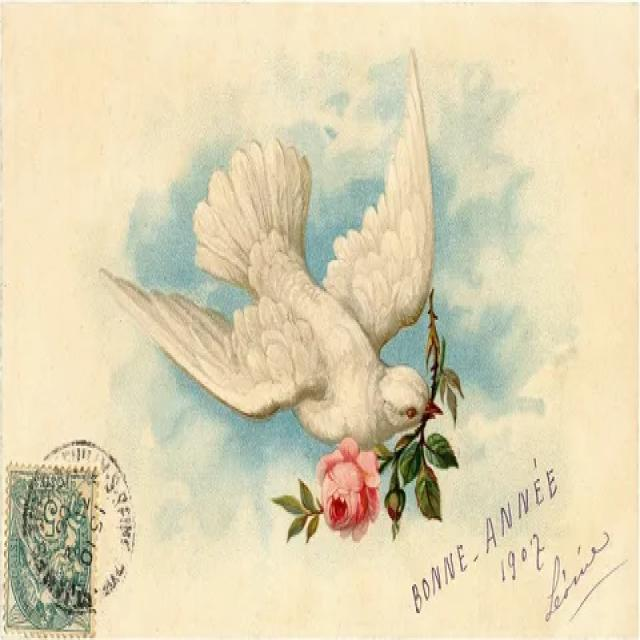pigeon: (96, 43, 448, 449)
